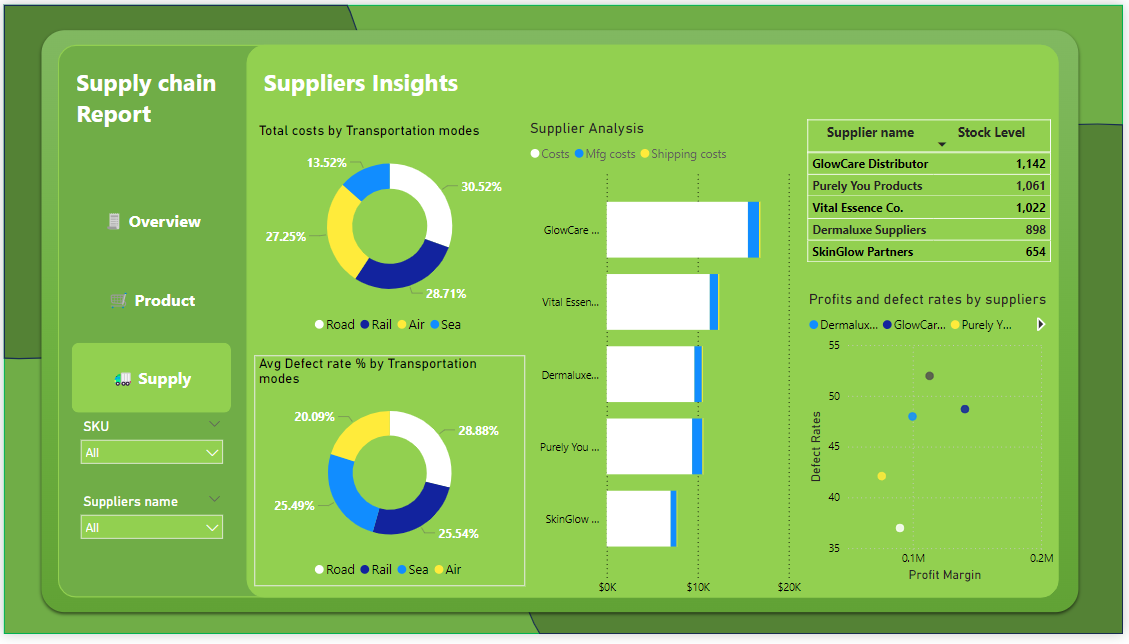

The page's visual inventory and layout, read from the dashboard file:
{"tool":"powerbi","page":{"name":"🚛 Supply","canvas":[1280,720],"ordinal":2},"visuals":[{"type":"donutChart","fields":{"Y":["Measures_required.Total costs"],"Category":["supply_chain_data.Transportation modes"]},"box":[287.1,135.7,310,250],"z":0},{"type":"pageNavigator","box":[78.6,207.1,182.9,261.4],"z":0,"group":"g1"},{"type":"donutChart","fields":{"Category":["supply_chain_data.Transportation modes"],"Y":["Measures_required.Avg Defect rate %"]},"box":[287.1,401.4,310,264.3],"z":1000},{"type":"slicer","fields":{"Values":["supply_chain_data.SKU"]},"box":[78.6,468.6,182.9,67.1],"z":1000,"group":"g1"},{"type":"barChart","title":"Supplier Analysis","fields":{"Category":["supply_chain_data.Supplier name"],"Y":["Sum(supply_chain_data.Costs)","Sum(supply_chain_data.Manufacturing costs)","Sum(supply_chain_data.Shipping costs)"]},"box":[597.1,131.4,320,552.9],"z":2000},{"type":"slicer","fields":{"Values":["supply_chain_data.Supplier name"]},"box":[78.6,554.3,182.9,67.1],"z":2000,"group":"g1"},{"type":"textbox","box":[78.6,65.7,182.9,122.9],"z":3000,"group":"g1"},{"type":"tableEx","fields":{"Values":["supply_chain_data.Supplier name","Measures_required.Stock Level"]},"box":[912.9,127.1,294.3,182.9],"z":3000},{"type":"scatterChart","title":"Profits and defect rates by suppliers","fields":{"X":["Sum(supply_chain_data.Profit margin)"],"Y":["Sum(supply_chain_data.Defect rates)"],"Series":["supply_chain_data.Supplier name"]},"box":[915.7,327.1,290,338.6],"z":4000},{"type":"textbox","box":[292.9,65.7,304.3,57.1],"z":4001},{"type":"group","id":"g1","title":"Group 1","box":[78.6,65.7,182.9,555.7],"z":4002}]}

Visuals, with their boxes in screenshot pixels (x1, y1, x2, y2), scaled from the page's 1280x720 canvas onto the 1129x644 screenshot:
donutChart - Measures_required.Total costs x supply_chain_data.Transportation modes: [253, 121, 527, 345]
pageNavigator: [69, 185, 231, 419]
donutChart - supply_chain_data.Transportation modes x Measures_required.Avg Defect rate %: [253, 359, 527, 595]
slicer - supply_chain_data.SKU: [69, 419, 231, 479]
"Supplier Analysis" barChart: [527, 118, 809, 612]
slicer - supply_chain_data.Supplier name: [69, 496, 231, 556]
textbox: [69, 59, 231, 169]
tableEx - supply_chain_data.Supplier name x Measures_required.Stock Level: [805, 114, 1065, 277]
"Profits and defect rates by suppliers" scatterChart: [808, 293, 1063, 595]
textbox: [258, 59, 527, 110]
"Group 1" group: [69, 59, 231, 556]
